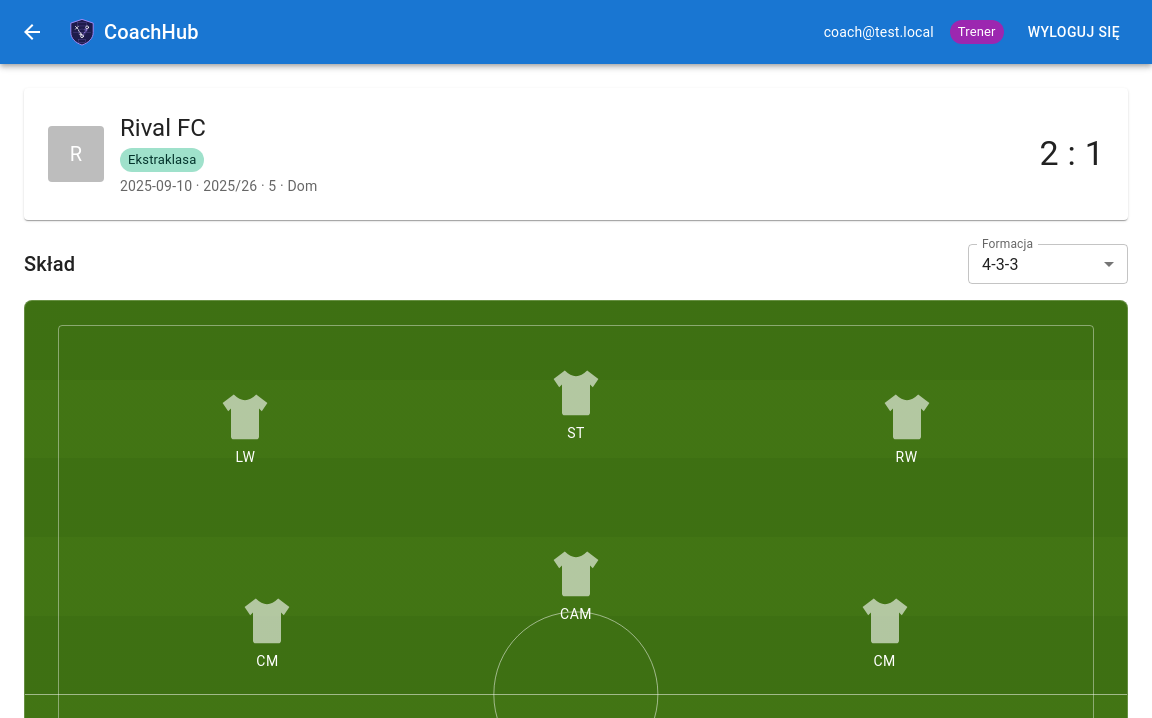
Test: changing the formation › reports a failure to save the formation
Click the dropdown named "Formacja".
click(1000, 264)  # box [982,254,1019,274]
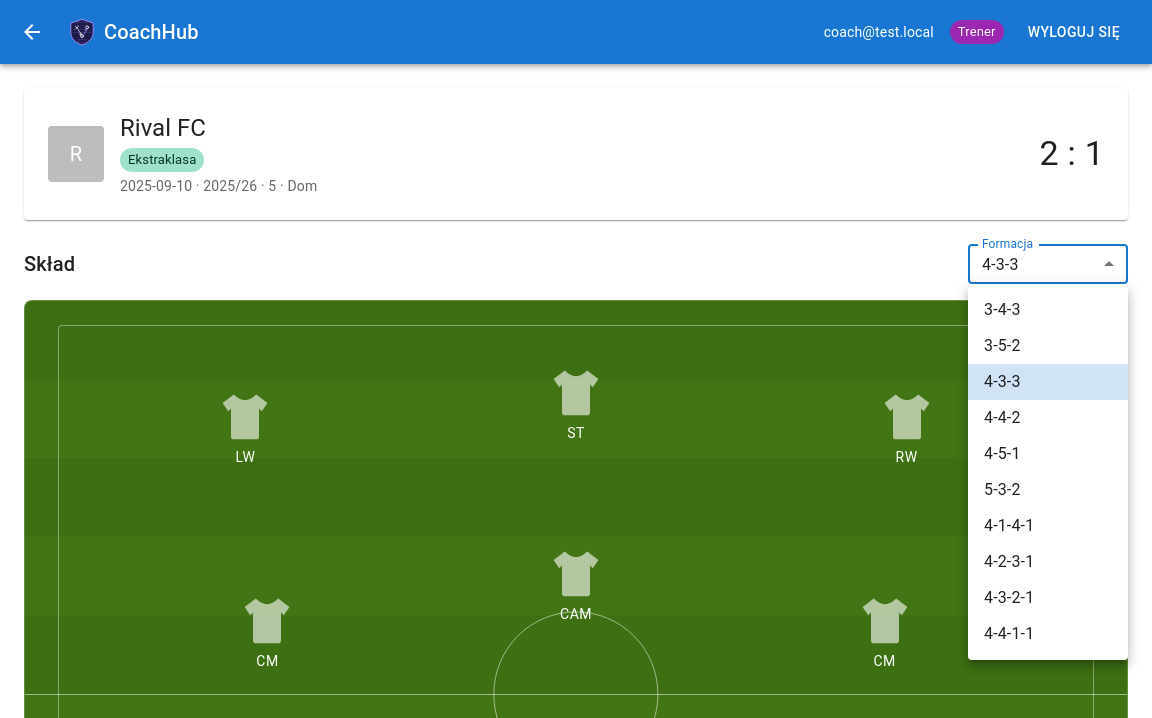
Click the option "4-4-2".
click(1002, 418)  # box [984,408,1021,427]
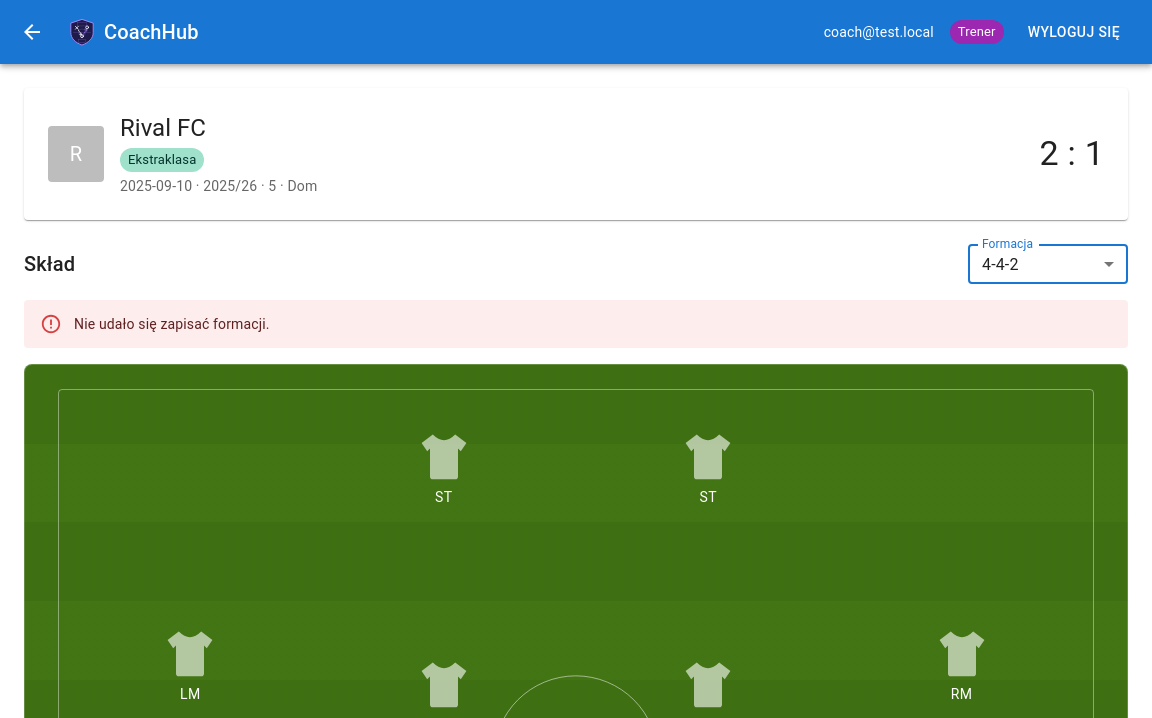
Expected: the text "Nie udało się zapisać formacji." is shown, [74,316,270,332]
